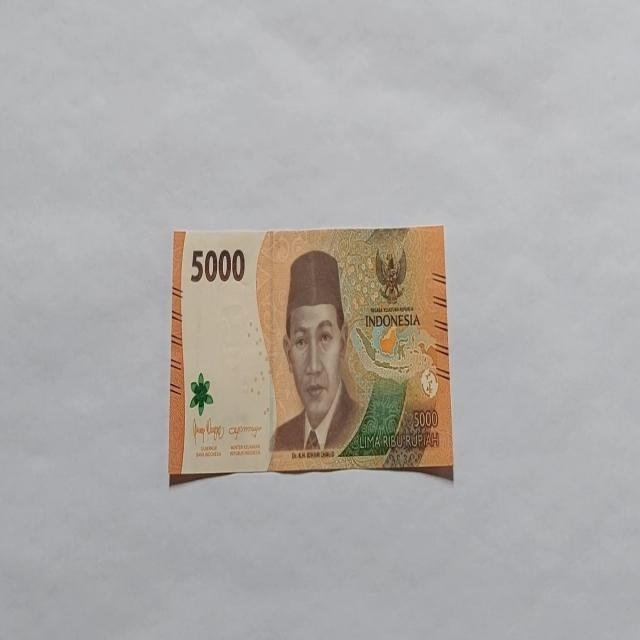lima ribu rupiah: (168, 224, 454, 484), (268, 248, 364, 456)
